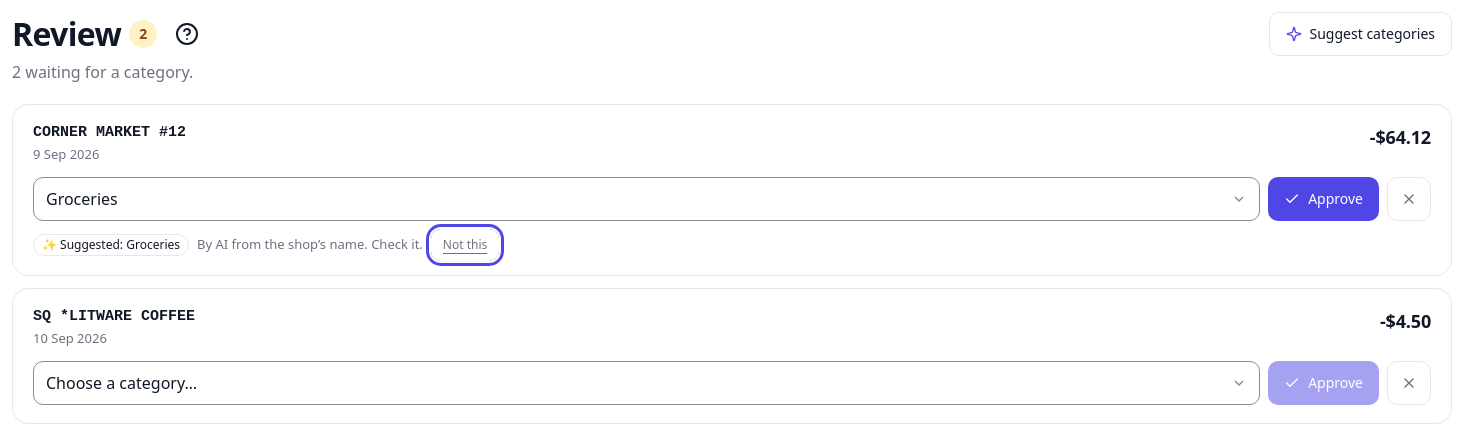
Test: Review shows suggested categories › moves focus to the row’s Category once Not this is done
Click the button "Not this": (465, 245) [431,229,499,261]
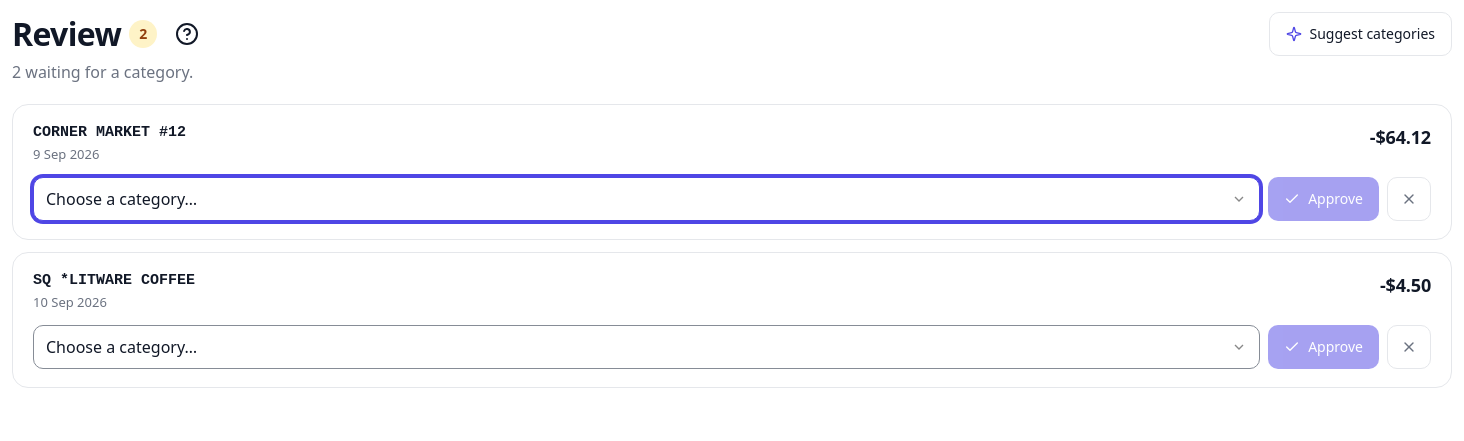
Now the dropdown named "Category" below "9 Sep 2026" shows "Choose a category…", box [33,177,1260,221]
